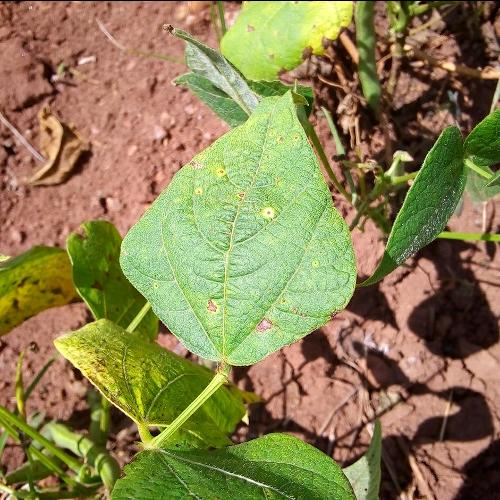hawar: (180, 142, 282, 237), (192, 286, 300, 342)
